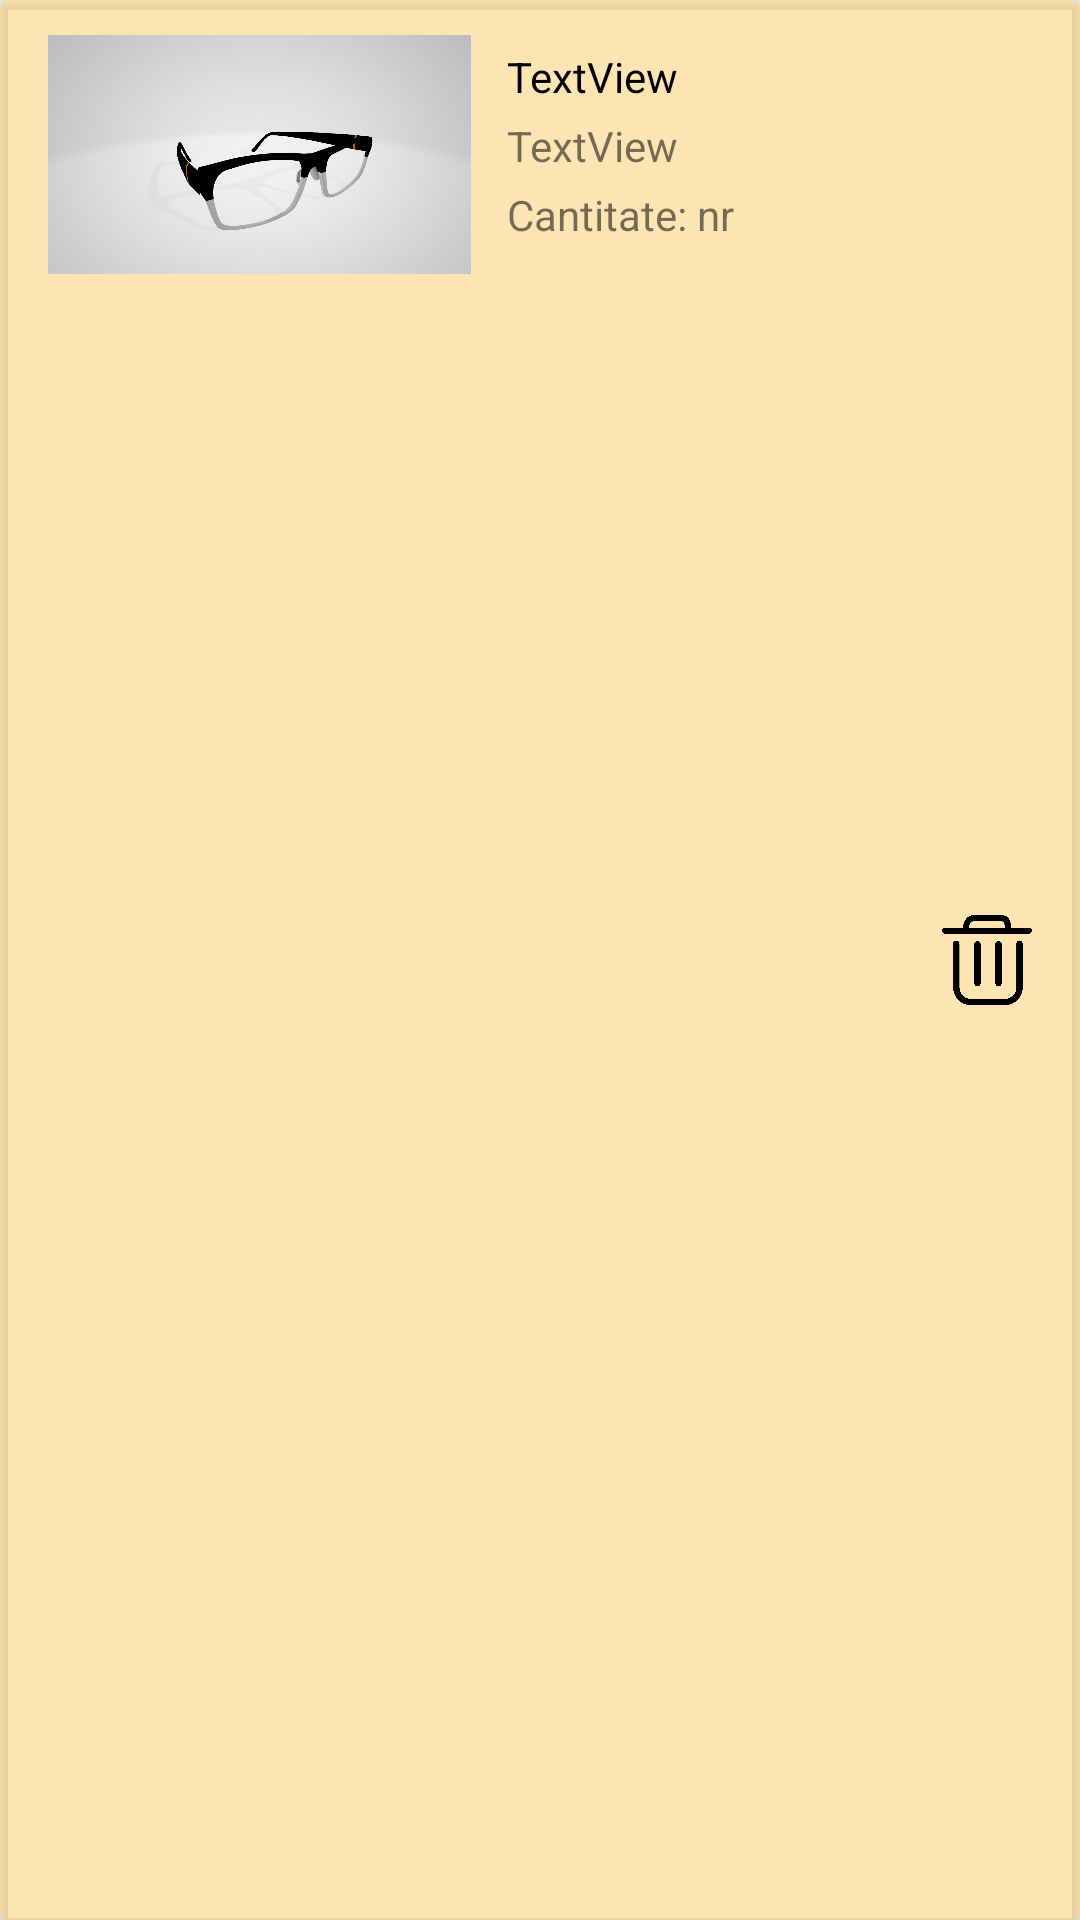

Icon bounding boxes for this 1080px×1920px phone screenshot, format (x1, y1, x2, y2):
delete: (942, 915, 1032, 1005)
